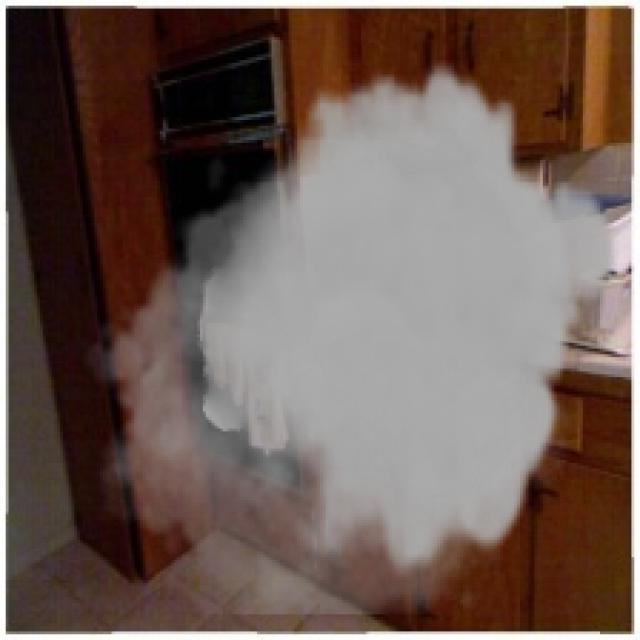smoke: (83, 60, 620, 614)
